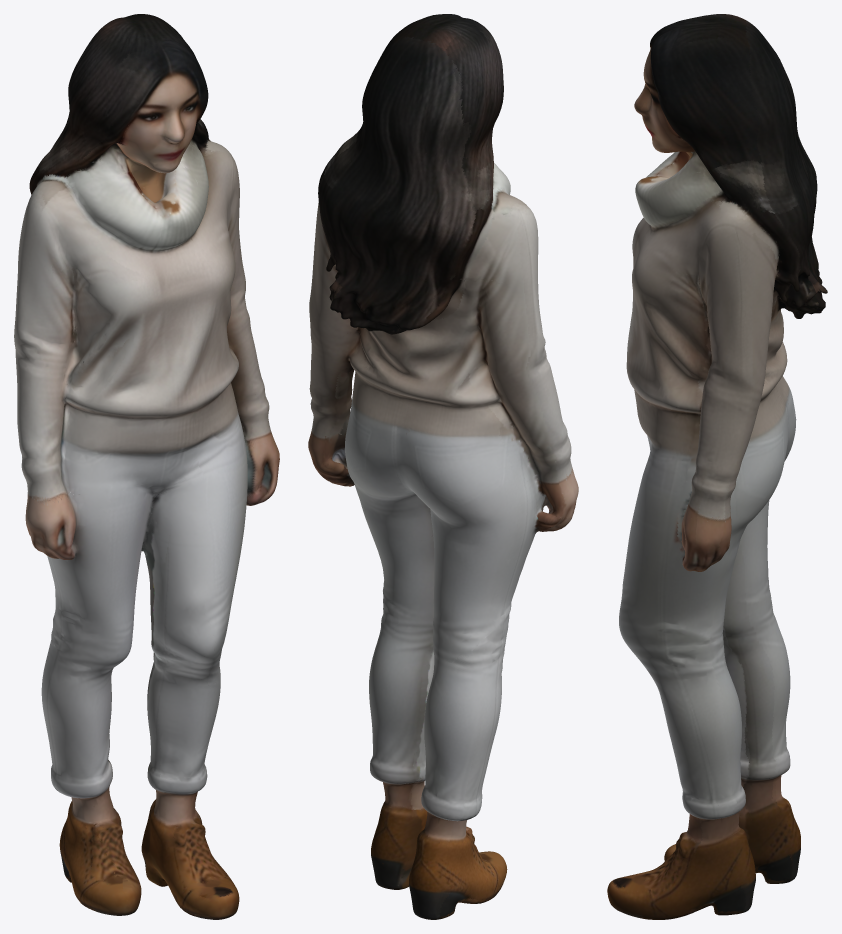
3 views of the same model, side by side, from view 1: azimuth 30°, elevation 25°; view 2: azimuth 150°, elevation 25°; view 3: azimuth 270°, elevation 25° (orthographic).
Visible parts, largest first — view 1: Mesh; view 2: Mesh; view 3: Mesh.
Boxes of the visible parts, <box> form: Mesh: <box>14,14,279,919</box>; Mesh: <box>308,14,578,919</box>; Mesh: <box>607,14,827,919</box>.
Size of the model in its own units: 0.3061 by 0.9891 by 0.2265.
1 material, 1 textured.
